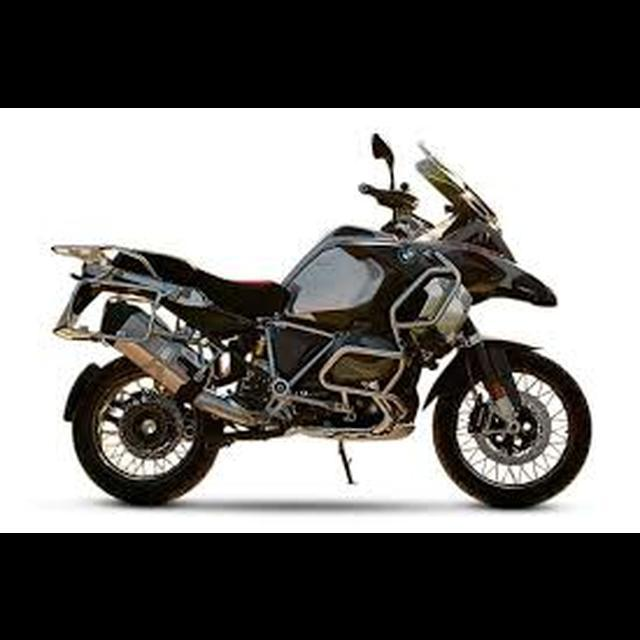motorcycle: (43, 125, 596, 515)
